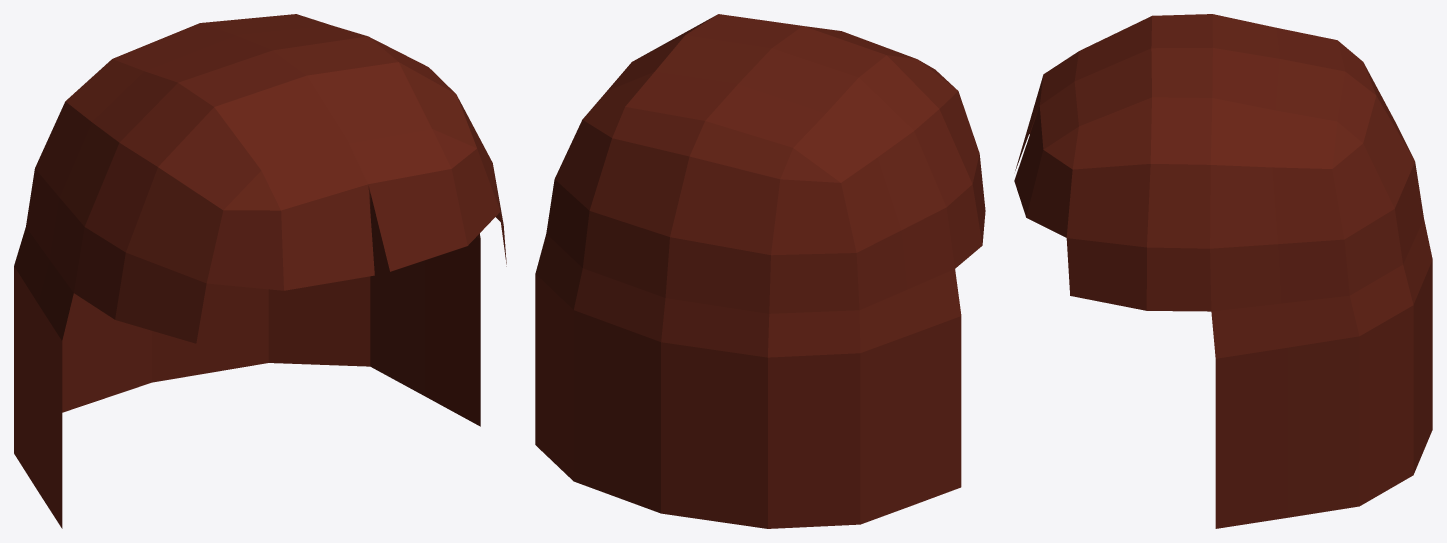
Rendered from Hair0.fbx.
The picture shows the model from 3 angles, left to right: view 1: azimuth 30°, elevation 25°; view 2: azimuth 150°, elevation 25°; view 3: azimuth 270°, elevation 25°; orthographic projection. The views are drawn at different scales.
Visible parts, largest first — view 1: Hair1; view 2: Hair1; view 3: Hair1.
Part boxes in pixels (x1=…): Hair1: x1=14, y1=14, x2=506, y2=528; Hair1: x1=535, y1=14, x2=985, y2=528; Hair1: x1=1014, y1=14, x2=1432, y2=528.
Bounding box in the file's own units: 87.2 × 85.4 × 83.31.
